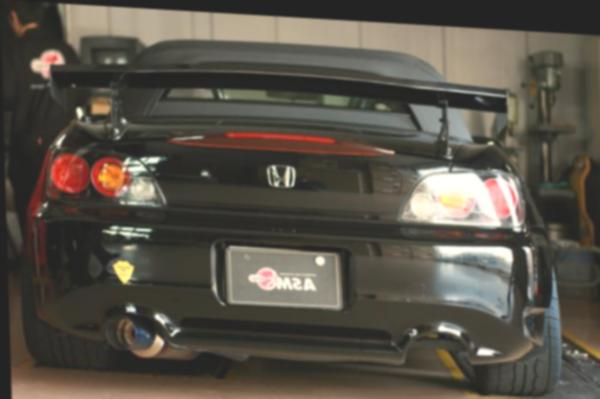License_Plate: (216, 238, 348, 318)
